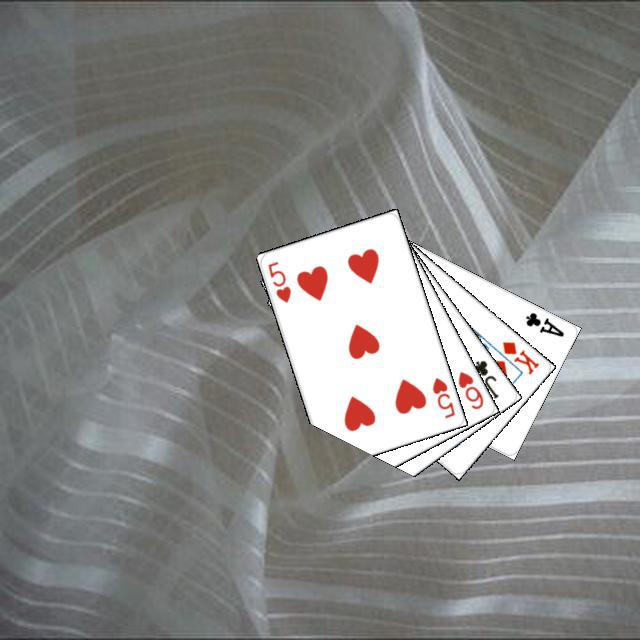5h: (427, 372, 457, 420), (263, 257, 293, 304)
6h: (453, 366, 485, 411)
Ac: (520, 307, 566, 339)
Jc: (468, 355, 500, 400)
Kd: (497, 336, 541, 376)
